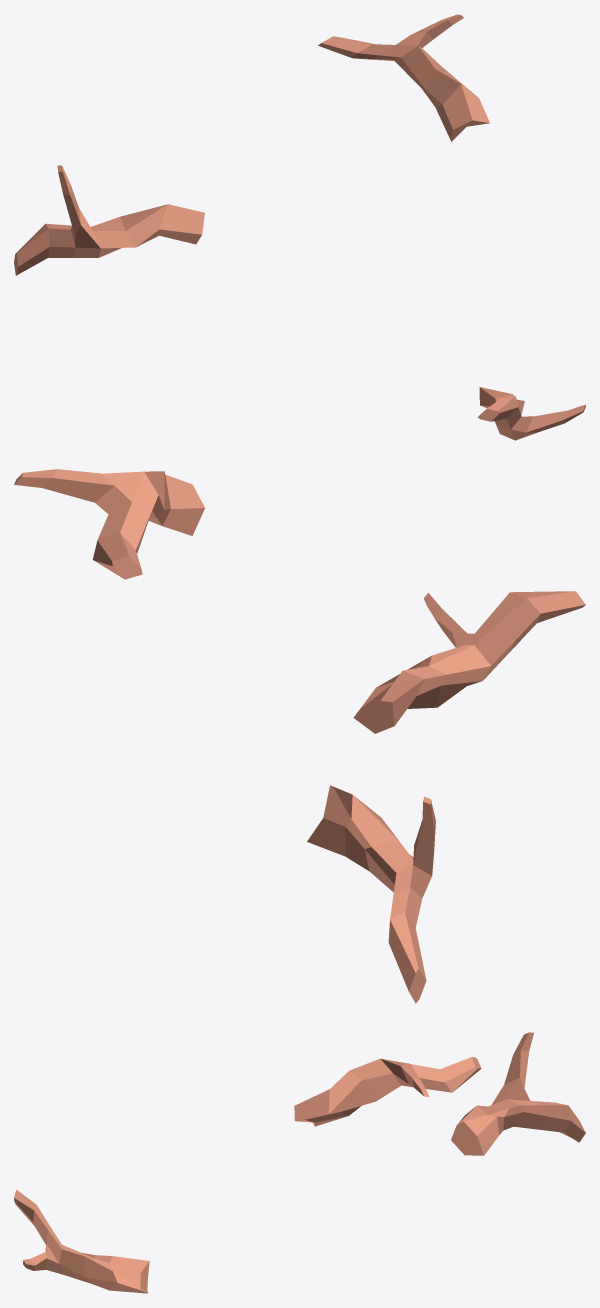
Rendered from low_branches.fbx.
The picture shows the model from 3 angles, top to bottom: view 1: azimuth 30°, elevation 25°; view 2: azimuth 150°, elevation 25°; view 3: azimuth 270°, elevation 25°; orthographic projection. The views are drawn at different scales.
Visible parts, largest first — view 1: low poly braches; view 2: low poly braches; view 3: low poly braches.
Boxes of the visible parts, x1=… form: low poly braches: x1=14, y1=14, x2=585, y2=440; low poly braches: x1=14, y1=469, x2=585, y2=1003; low poly braches: x1=14, y1=1032, x2=585, y2=1293.
Bounding box in the file's own units: 296 × 205 × 412.
